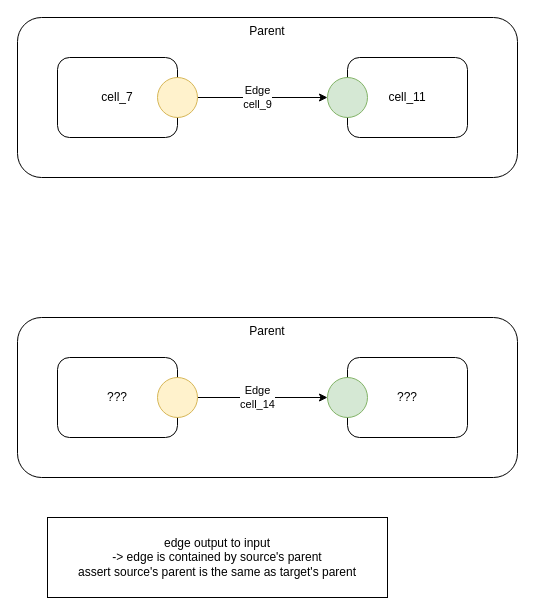
Some shapes in this 535 by 615 pixel diagram are drawn without their labels. The shapes that lost their labels are listed below. From the top down, each one's centre as x and y in pixels, then its label:
the point at 177,97: Source cell_10
the point at 347,97: Target cell_12
the point at 177,397: Source ???
the point at 347,397: Target ???
